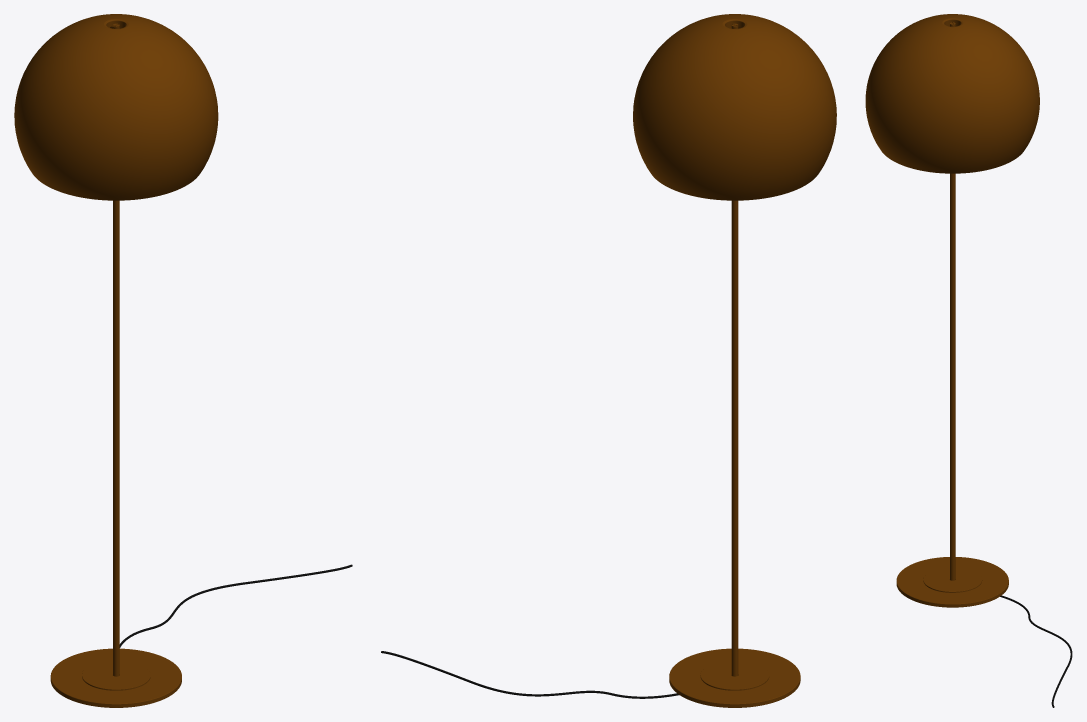
File: Opinion_Ciatti_Mirror_Floor_45_mat(3).fbx
3 renders of one model, left to right at view 1: azimuth 30°, elevation 25°; view 2: azimuth 150°, elevation 25°; view 3: azimuth 270°, elevation 25°, orthographic. The views are drawn at different scales.
Parts seen in each view (by area): view 1: Opinion_Ciatti_Mirror_Floor_45_mat3; view 2: Opinion_Ciatti_Mirror_Floor_45_mat3; view 3: Opinion_Ciatti_Mirror_Floor_45_mat3.
Part boxes in pixels (left/top/right/bottom): Opinion_Ciatti_Mirror_Floor_45_mat3: left=14, top=14, right=352, bottom=707; Opinion_Ciatti_Mirror_Floor_45_mat3: left=381, top=14, right=836, bottom=707; Opinion_Ciatti_Mirror_Floor_45_mat3: left=865, top=14, right=1072, bottom=707.
Size of the model in its own units: 97.55 by 53.38 by 160.
